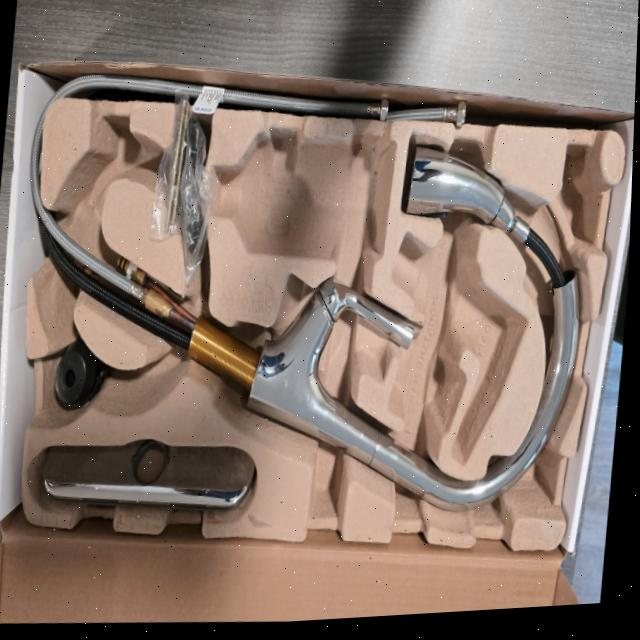1: (35, 148, 580, 514)
2m: (392, 231, 527, 462)
3m: (203, 131, 397, 258)
4: (42, 440, 255, 512)
5: (53, 340, 105, 408)
6m: (63, 117, 153, 212)
7: (148, 94, 214, 289)
